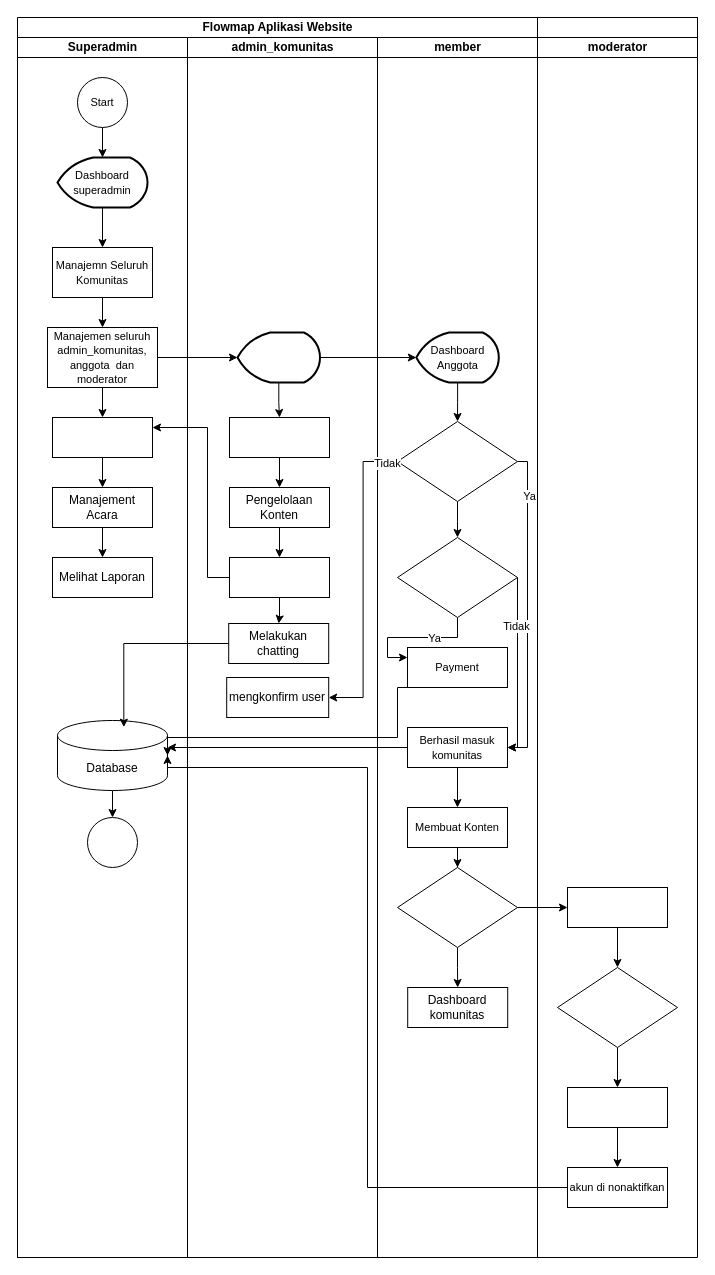
The diagram is 715 pixels wide and 1275 high, and some of its shapes have lost their labels. The centre of each missing label's shape, as x and y in pixels:
"Berbayar?" belongs at [457,577].
"Dashboard admin" belongs at [278,357].
"End" belongs at [112,842].
"Komunitas public?" belongs at [457,461].
"Konten melanggar?" belongs at [457,907].
"Laporan diterima" belongs at [617,907].
"Manajemen Konten" belongs at [102,437].
"Membuat Event" belongs at [279,577].
"Membuat Komunitas" belongs at [279,437].
"Menghapus akun user" belongs at [617,1107].
"Pelanggaran melewati batas?" belongs at [617,1007].
